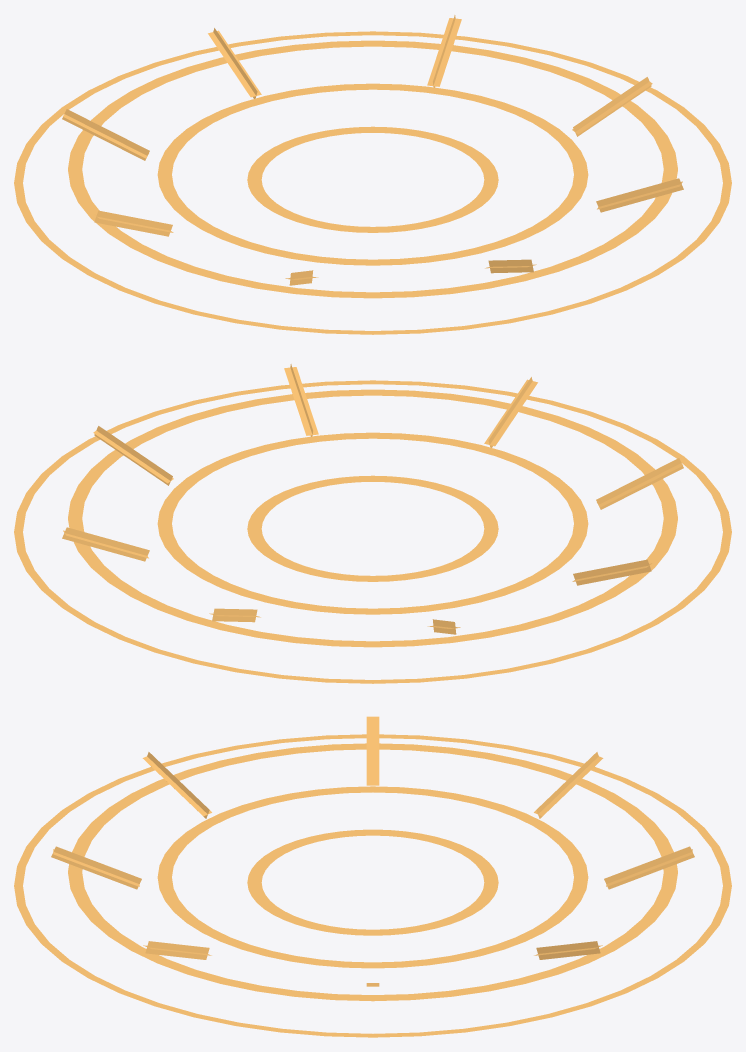
File: tank.glb
3 renders of one model, top to bottom at view 1: azimuth 30°, elevation 25°; view 2: azimuth 150°, elevation 25°; view 3: azimuth 270°, elevation 25°, orthographic.
Visible parts, largest first — view 1: tank_ultimate; view 2: tank_ultimate; view 3: tank_ultimate.
Boxes of the visible parts, x1,y1,x2,y2 form: tank_ultimate: (14,15,731,334); tank_ultimate: (14,364,731,683); tank_ultimate: (14,716,731,1037).
Size of the model in its own units: 2 by 0.1332 by 2.
